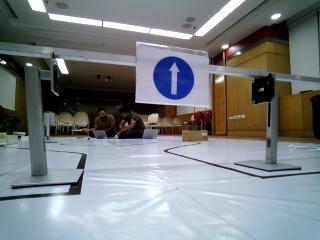straight: (136, 42, 212, 108)
